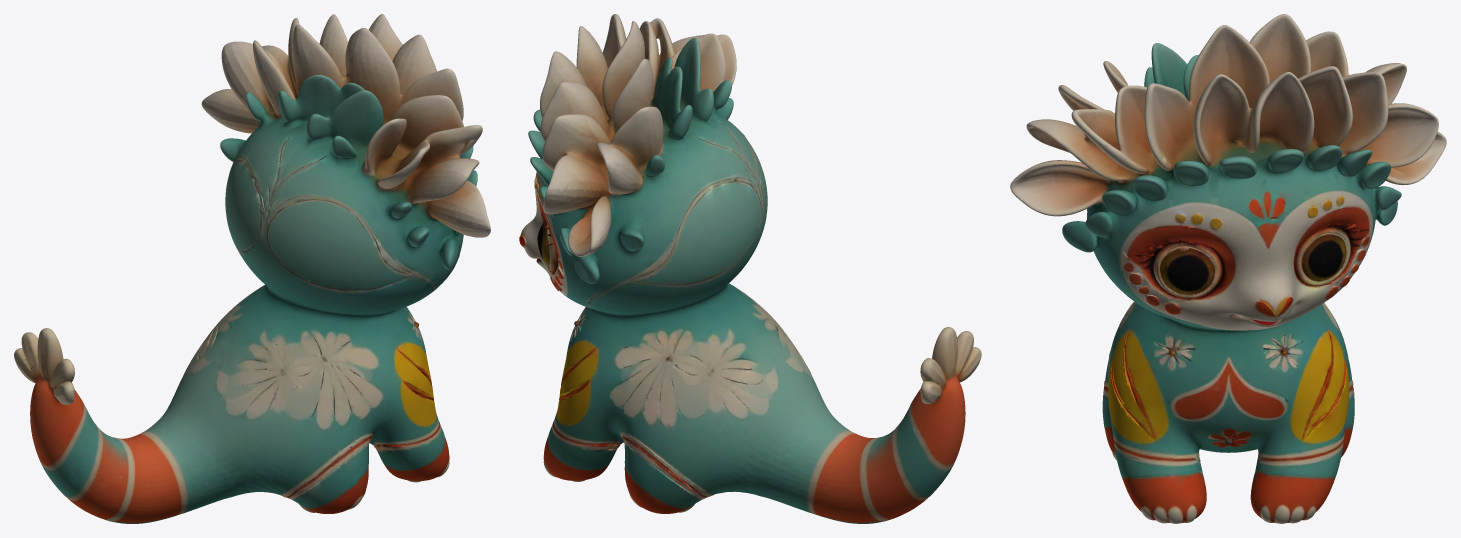
File: mascota-alebrije.glb
The picture shows the model from 3 angles, left to right: view 1: azimuth 30°, elevation 25°; view 2: azimuth 150°, elevation 25°; view 3: azimuth 270°, elevation 25°; orthographic projection. The views are drawn at different scales.
Visible parts, largest first — view 1: Object_2; view 2: Object_2; view 3: Object_2.
Part boxes in pixels (<box>): Object_2: <box>14,14,490,523</box>; Object_2: <box>519,14,981,523</box>; Object_2: <box>1010,14,1446,523</box>.
Bounding box in the file's own units: 0.9952 × 0.9988 × 0.826.
1 material, 1 textured.
